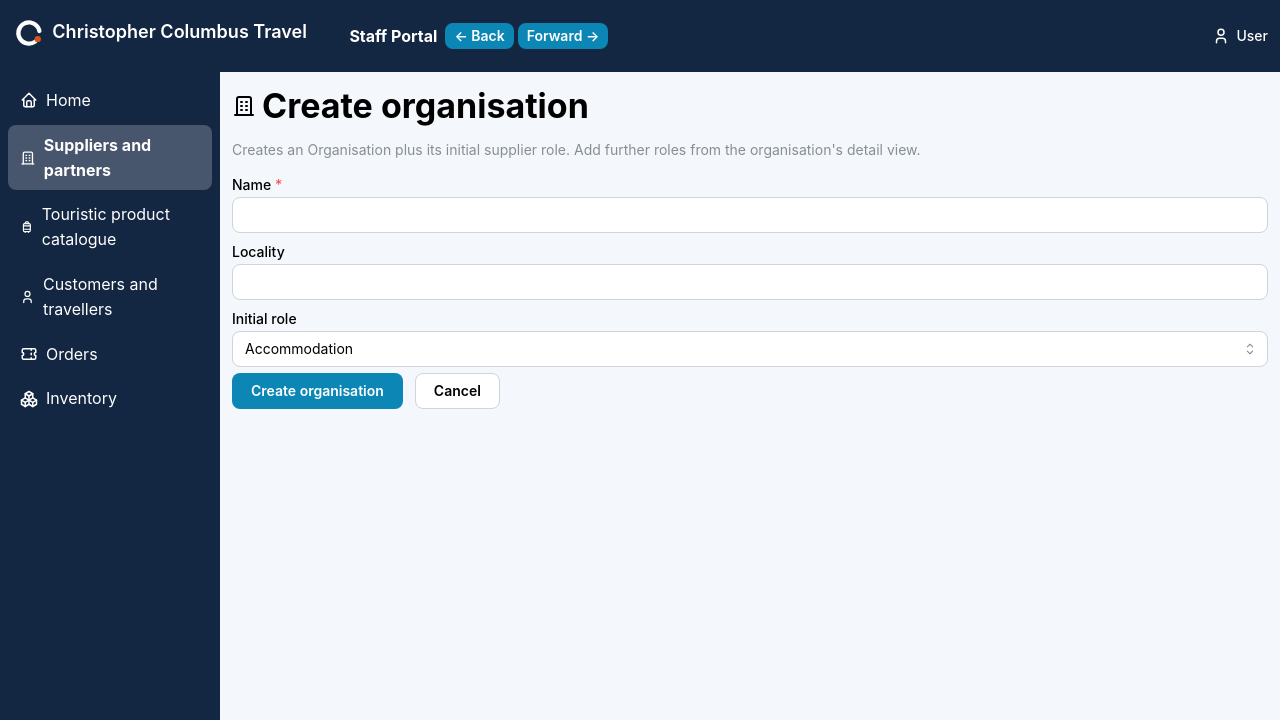
OrganisationCreateRoute (VIEW-S-004 create flow, issue #30 phase 2) › shows validation errors and does not submit when required fields are missing
Click the button "Create organisation" at (317, 391), box [232, 373, 403, 409]
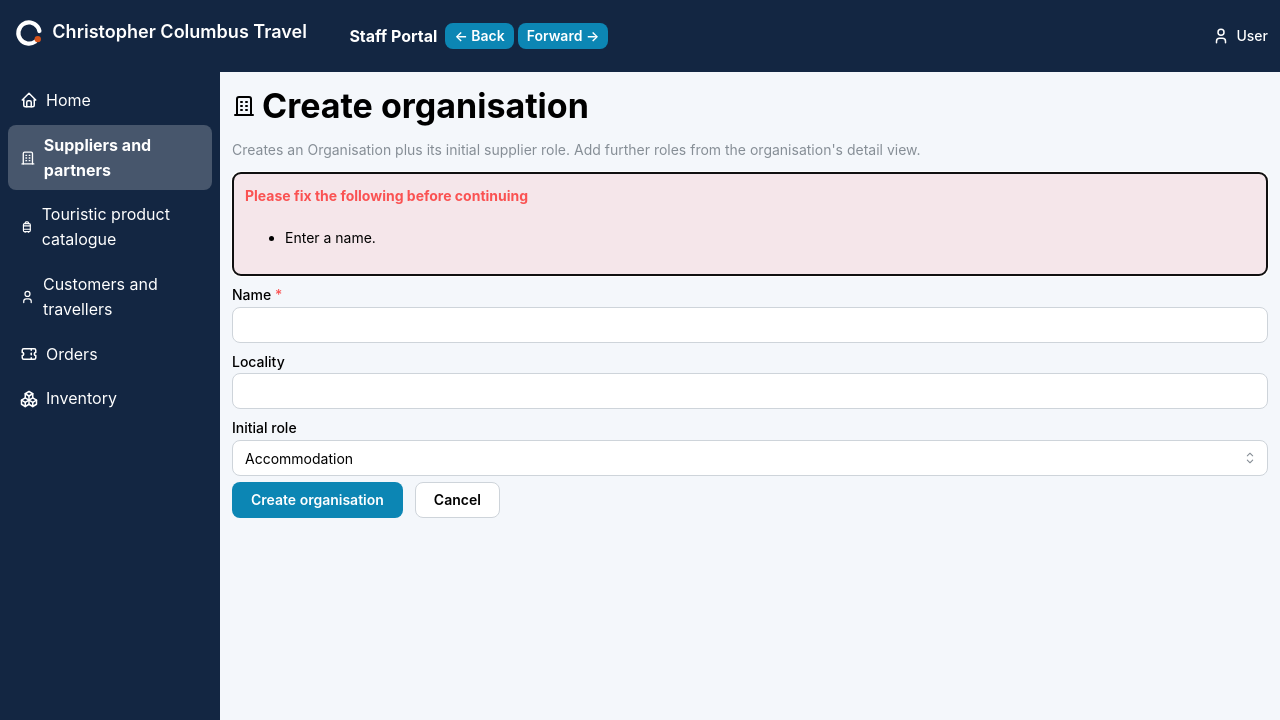
Now the list item "Enter a name." is shown, box [285, 229, 376, 246]
